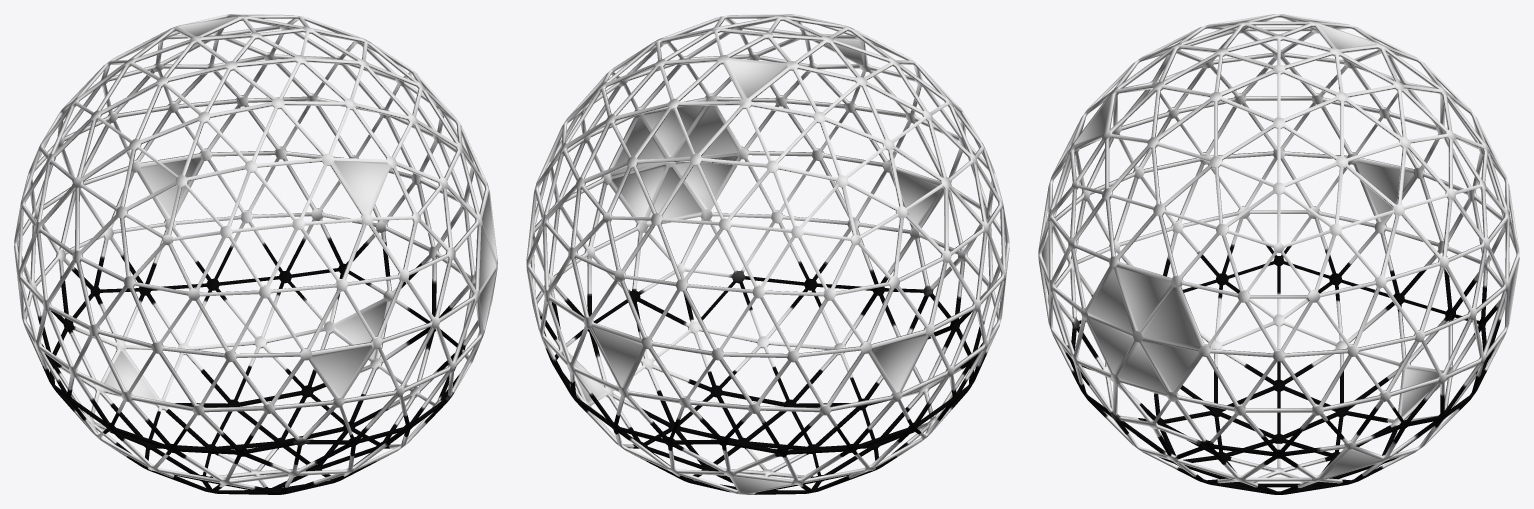
Rendered from dyson.gltf.
3 views of the same model, side by side, from view 1: azimuth 30°, elevation 25°; view 2: azimuth 150°, elevation 25°; view 3: azimuth 270°, elevation 25° (orthographic).
Visible parts, largest first — view 1: Icosphere.001; view 2: Icosphere.001; view 3: Icosphere.001.
Part boxes in pixels (box(x1,y1,x2,y2)): Icosphere.001: box(14, 14, 497, 494); Icosphere.001: box(526, 14, 1009, 494); Icosphere.001: box(1038, 14, 1519, 494).
Bounding box in the file's own units: 3.65 × 3.65 × 3.65.
1 material, 1 textured.
